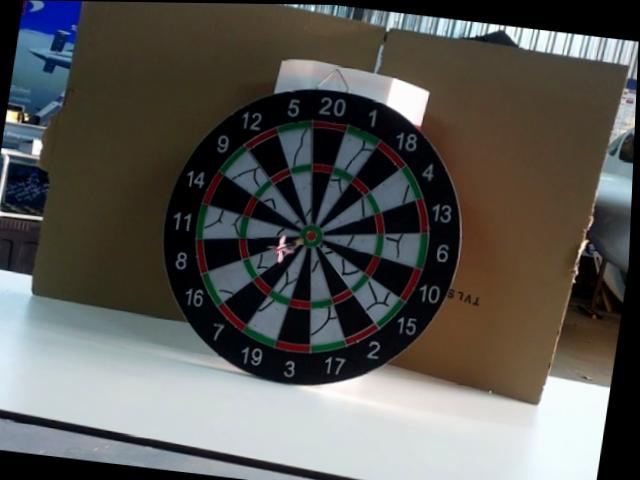bullseye: (301, 227, 321, 247)
